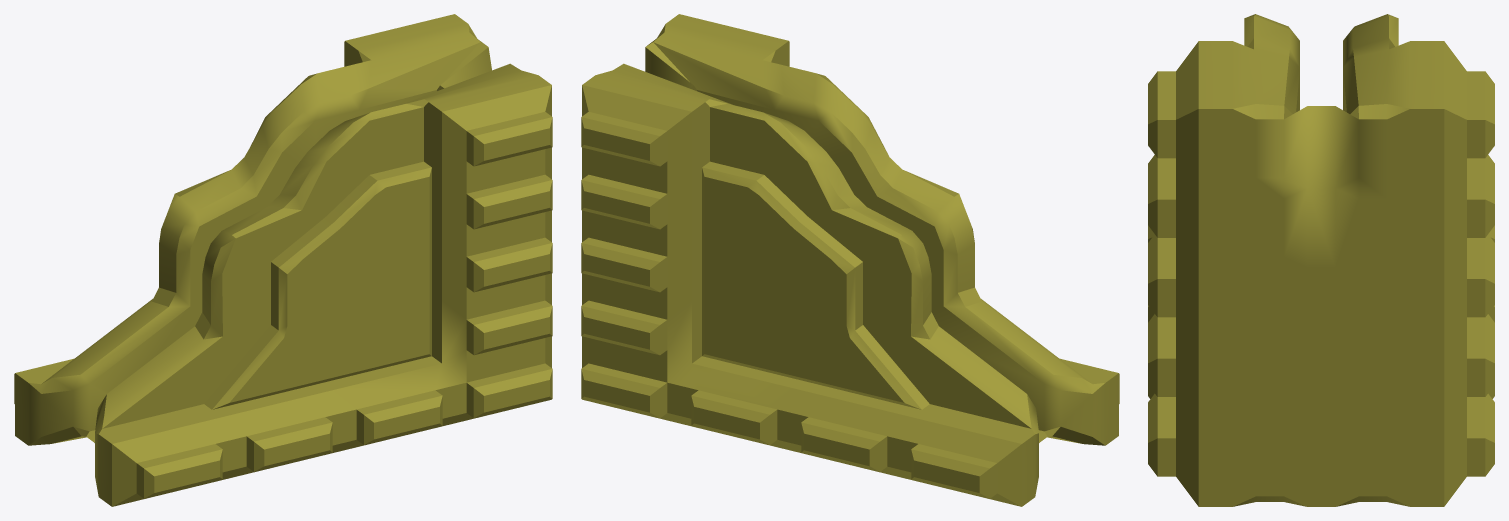
File: ForceFieldProjector.fbx
The picture shows the model from 3 angles, left to right: view 1: azimuth 30°, elevation 25°; view 2: azimuth 150°, elevation 25°; view 3: azimuth 270°, elevation 25°; orthographic projection. The views are drawn at different scales.
Parts seen in each view (by area): view 1: pCube1; view 2: pCube1; view 3: pCube1.
Boxes of the visible parts, x1,y1,x2,y2 form: pCube1: (14, 14, 552, 506); pCube1: (581, 14, 1119, 506); pCube1: (1148, 14, 1494, 506).
Bounding box in the file's own units: 56.97 × 38.95 × 30.75.
